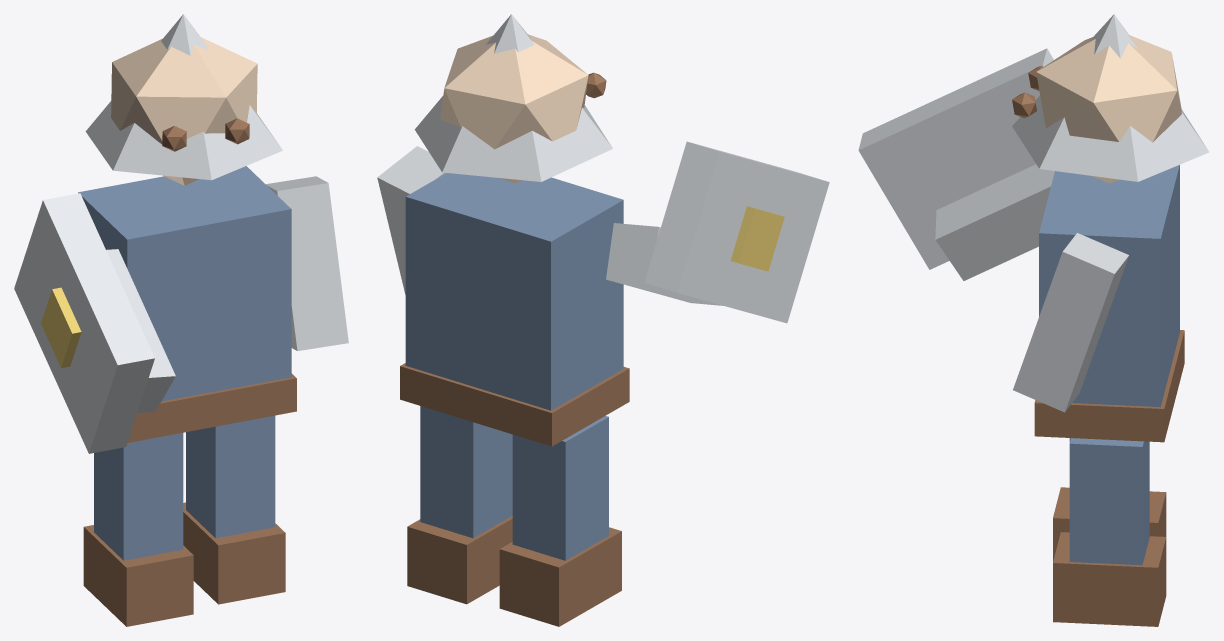
The model's file is npcpose_guard_idle_10.glb.
The picture shows the model from 3 angles, left to right: view 1: azimuth 30°, elevation 25°; view 2: azimuth 150°, elevation 25°; view 3: azimuth 270°, elevation 25°; orthographic projection.
Visible parts, largest first — view 1: npcpose; view 2: npcpose; view 3: npcpose.
Boxes of the visible parts, box(x1,y1,x2,y2) form: npcpose: box(14, 14, 348, 626); npcpose: box(377, 14, 829, 626); npcpose: box(858, 14, 1209, 626).
Bounding box in the file's own units: 0.9197 × 1.55 × 0.8603.
